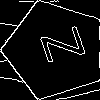Z: (30, 25, 86, 68)
